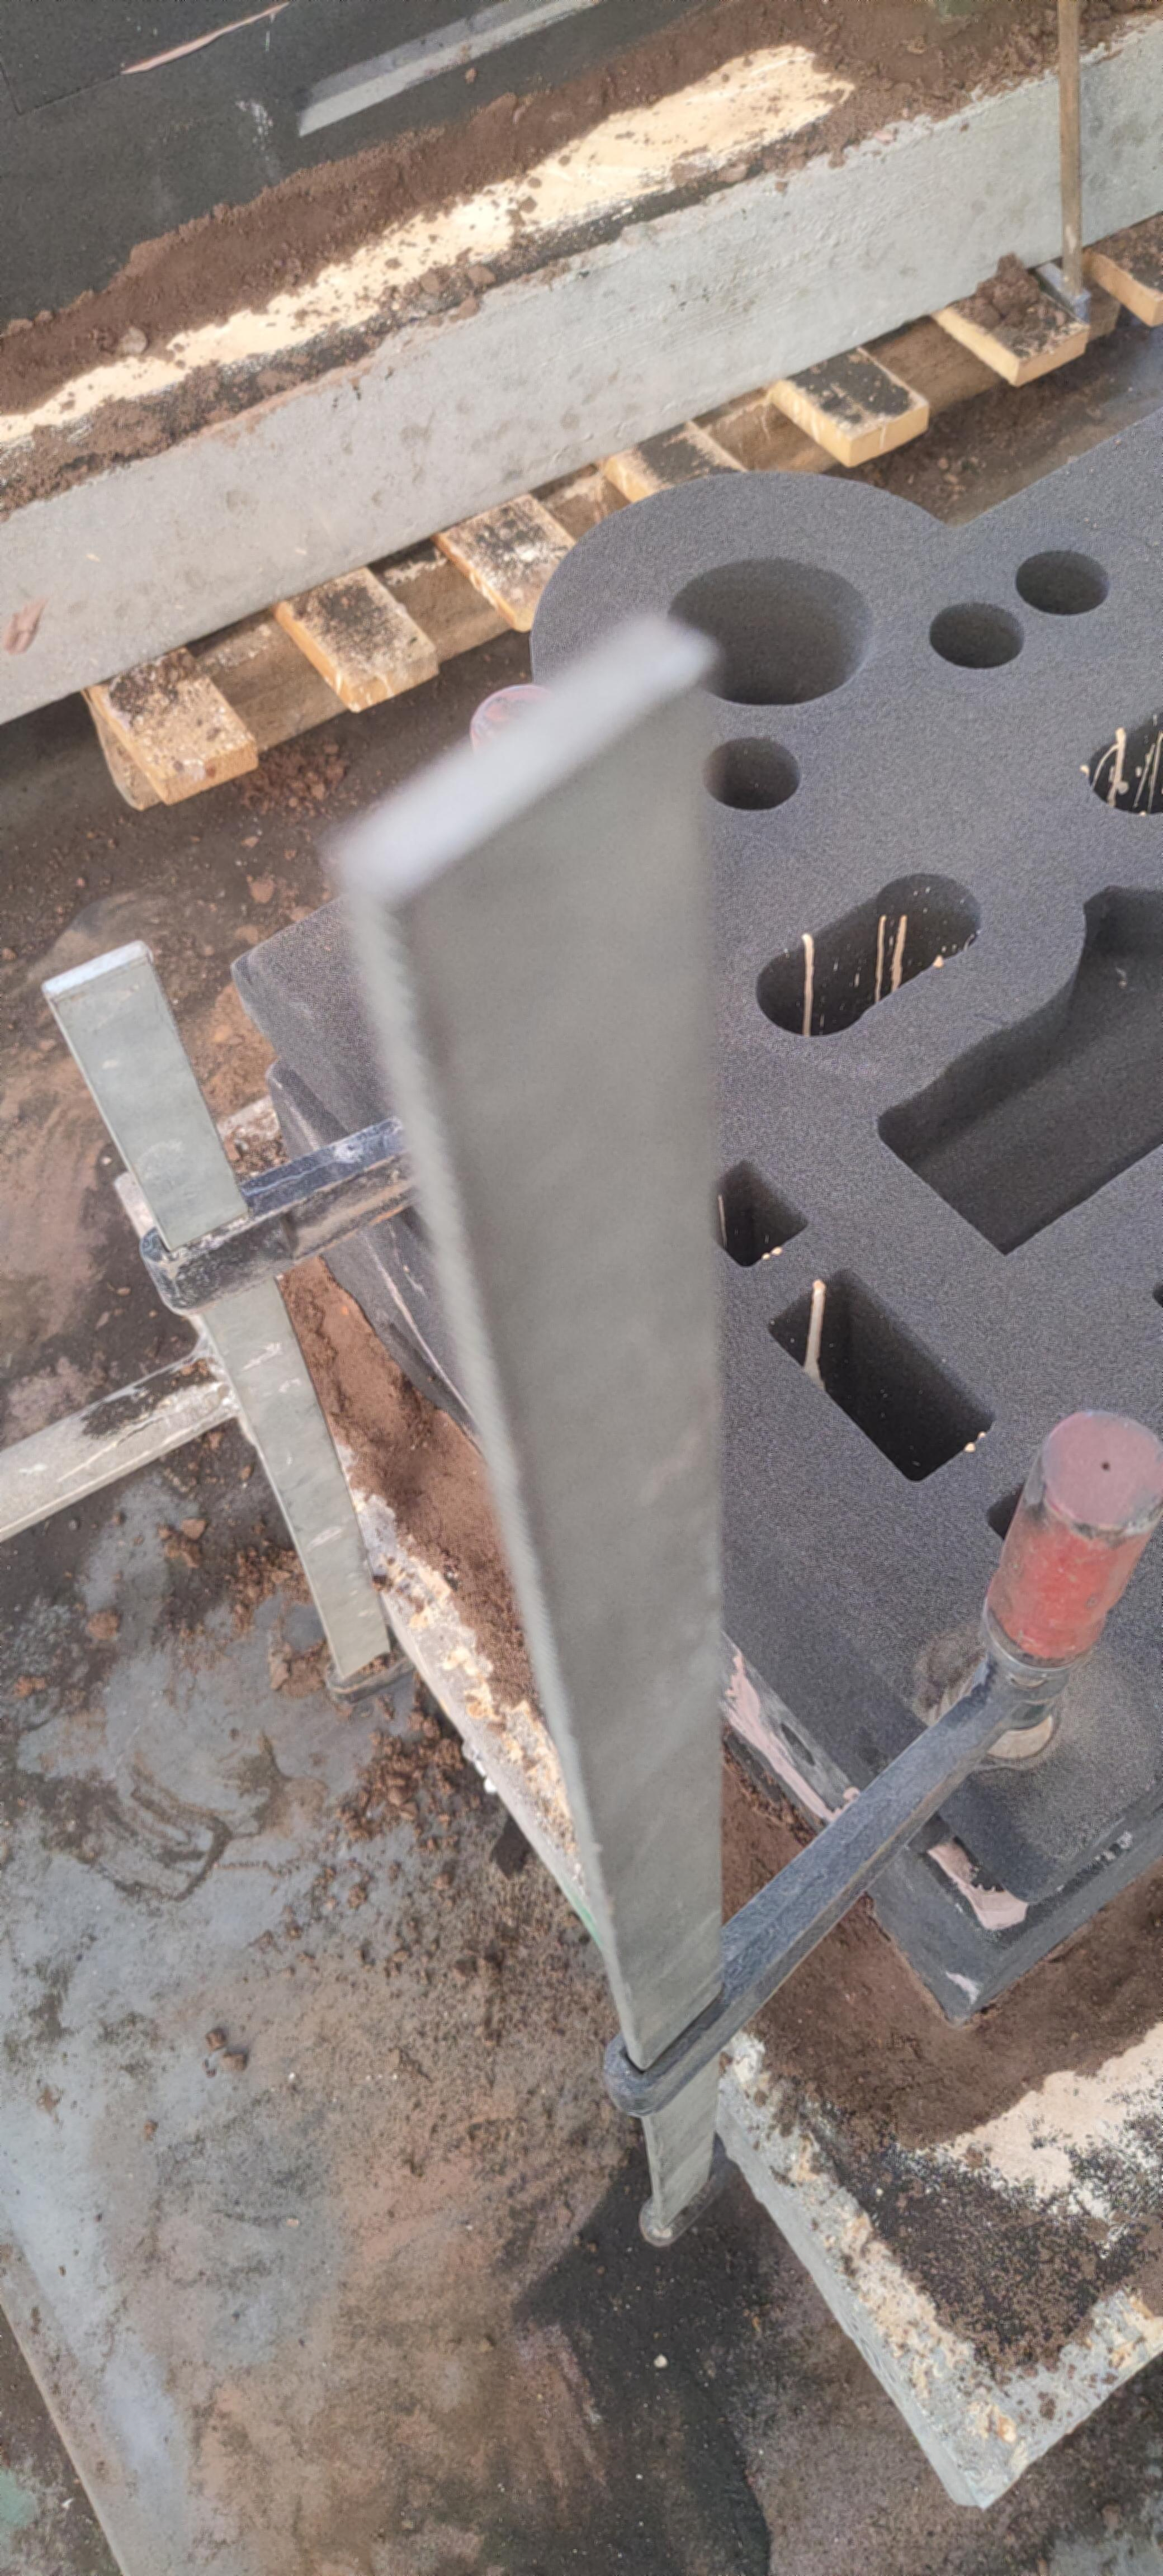pouring hole: (660, 554, 874, 703)
